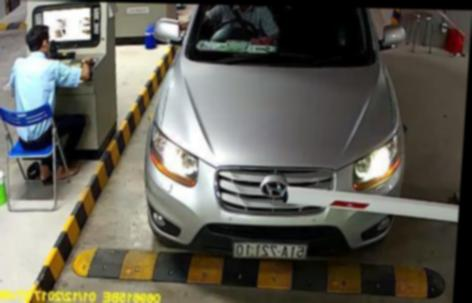License_Plate: (228, 237, 312, 264)
